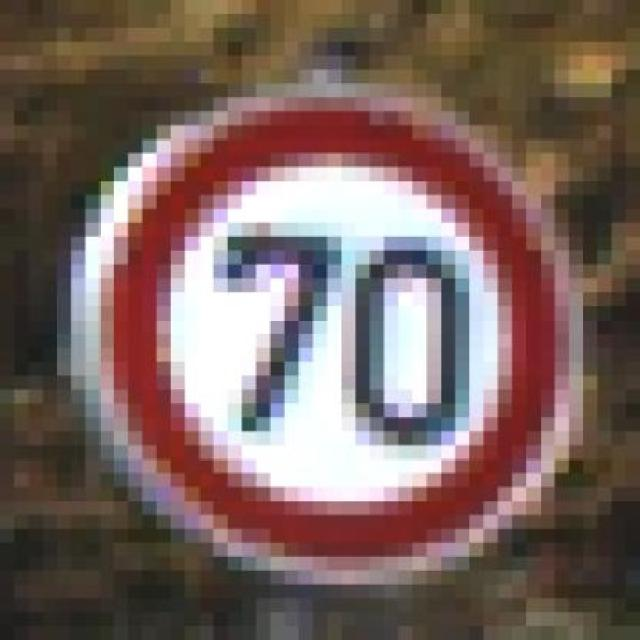forb_speed_over_70: (96, 91, 570, 571)
